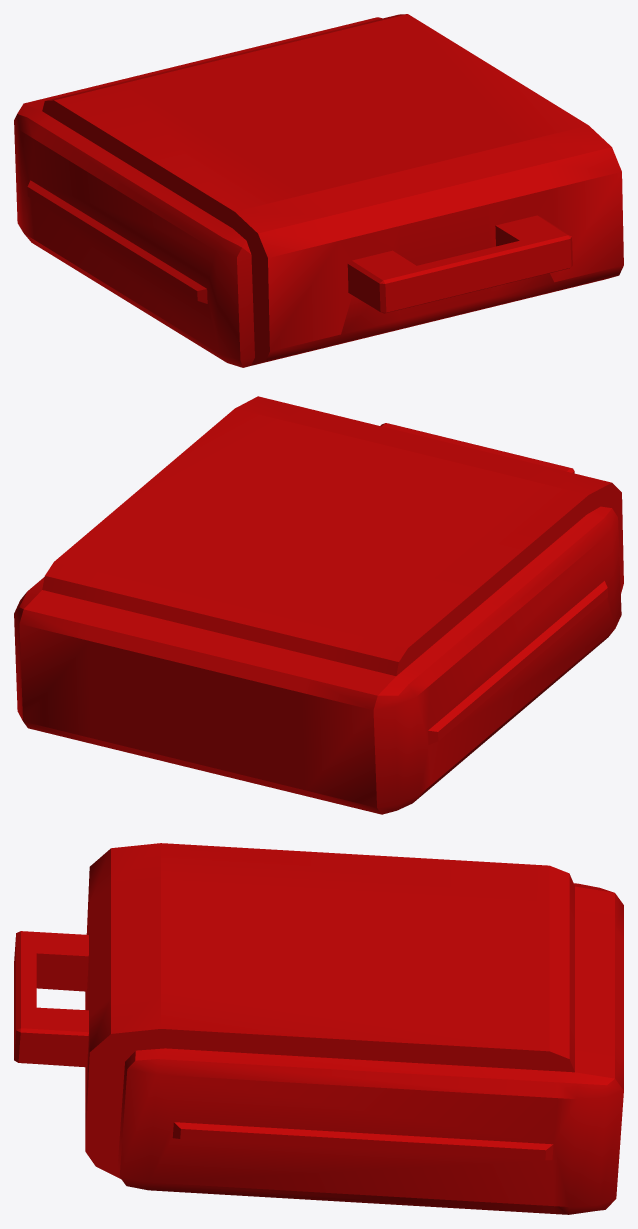
The model's file is Backpack.fbx.
The picture shows the model from 3 angles, top to bottom: view 1: azimuth 30°, elevation 25°; view 2: azimuth 150°, elevation 25°; view 3: azimuth 270°, elevation 25°; orthographic projection. The views are drawn at different scales.
Visible parts, largest first — view 1: bag_new:Box001; view 2: bag_new:Box001; view 3: bag_new:Box001.
Boxes of the visible parts, x1,y1,x2,y2 form: bag_new:Box001: (14, 14, 623, 367); bag_new:Box001: (14, 396, 623, 814); bag_new:Box001: (14, 843, 623, 1214).
Size of the model in its own units: 2.63 by 1.04 by 3.14.
